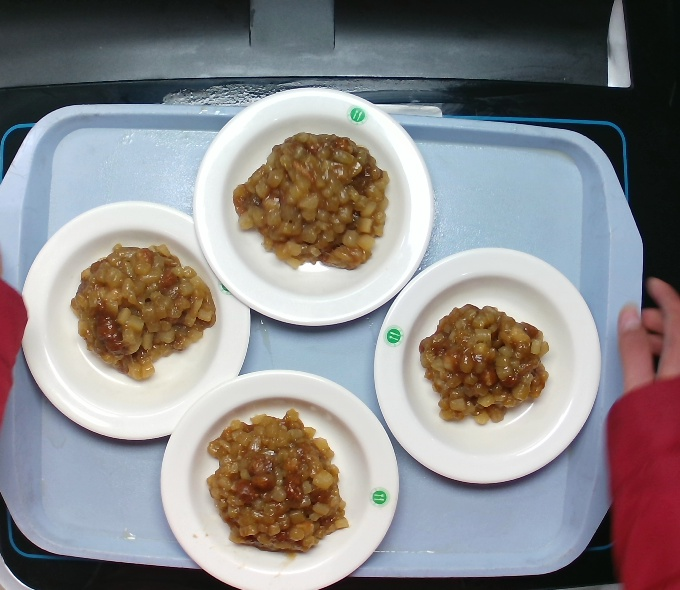wcq-RouYuan: (216, 117, 404, 275), (66, 235, 223, 381), (191, 408, 348, 553), (413, 298, 553, 419)
